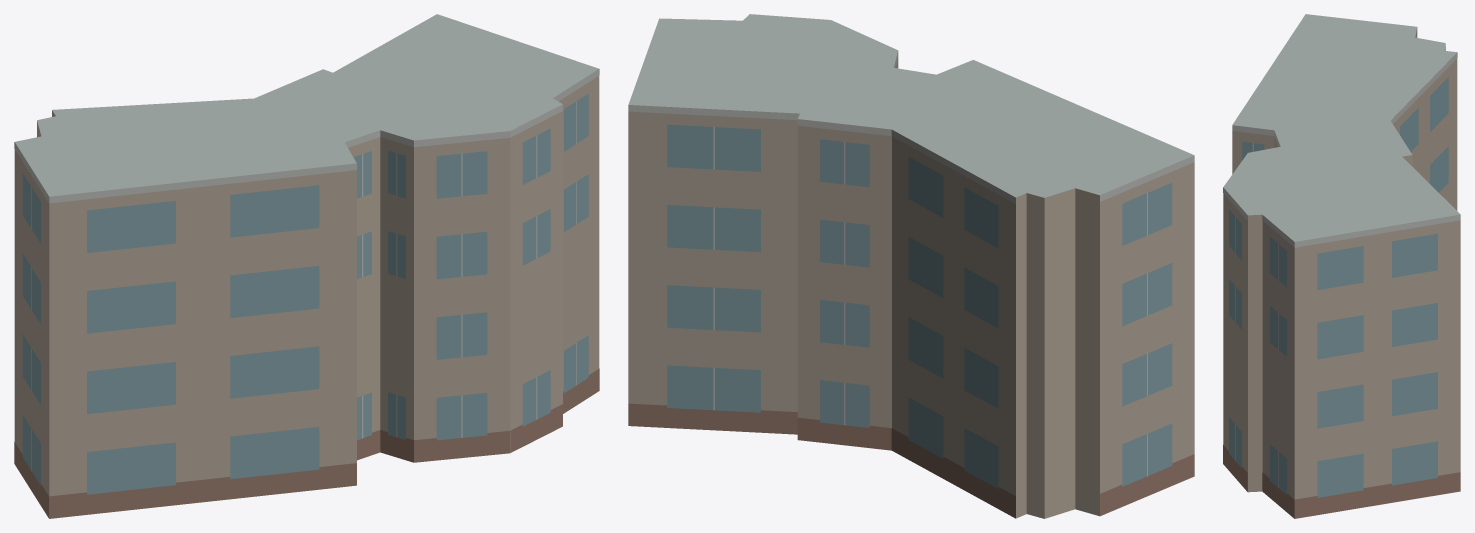
File: survey-upis-32637040.glb
3 views of the same model, side by side, from view 1: azimuth 30°, elevation 25°; view 2: azimuth 150°, elevation 25°; view 3: azimuth 270°, elevation 25° (orthographic). The views are drawn at different scales.
Visible parts, largest first — view 1: survey-upis-32637040.tmp; view 2: survey-upis-32637040.tmp; view 3: survey-upis-32637040.tmp.
Boxes of the visible parts, x1=… form: survey-upis-32637040.tmp: x1=14, y1=14, x2=599, y2=518; survey-upis-32637040.tmp: x1=628, y1=14, x2=1194, y2=518; survey-upis-32637040.tmp: x1=1223, y1=14, x2=1460, y2=518.
Size of the model in its own units: 20.68 by 11.7 by 9.11.
